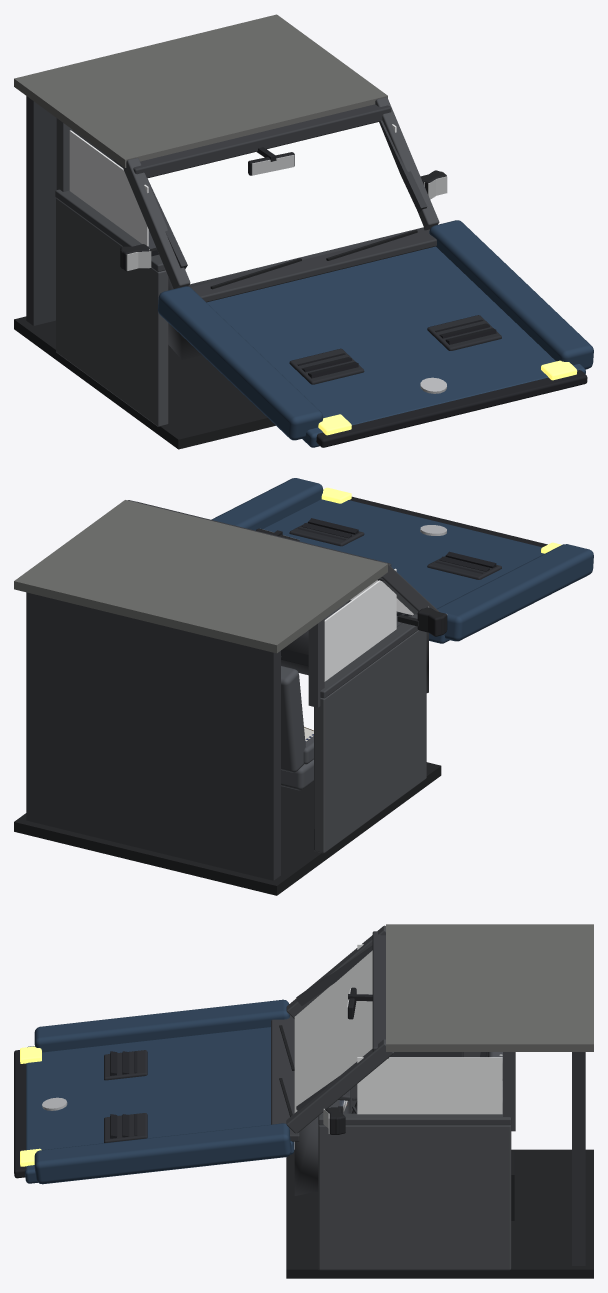
The model's file is cabine.glb.
3 views of the same model, one above another, from view 1: azimuth 30°, elevation 25°; view 2: azimuth 150°, elevation 25°; view 3: azimuth 270°, elevation 25° (orthographic). The views are drawn at different scales.
Visible parts, largest first — view 1: cabine, est_retro_ok, est_retro_desregulado; view 2: cabine; view 3: cabine.
Part boxes in pixels (x1,y1,x2,y2): cabine: (14,14,593,449); est_retro_ok: (120,171,447,271); est_retro_desregulado: (120,170,443,268); cabine: (14,478,593,895); cabine: (14,924,593,1278).
Size of the model in its own units: 2.07 by 1.53 by 3.43.
